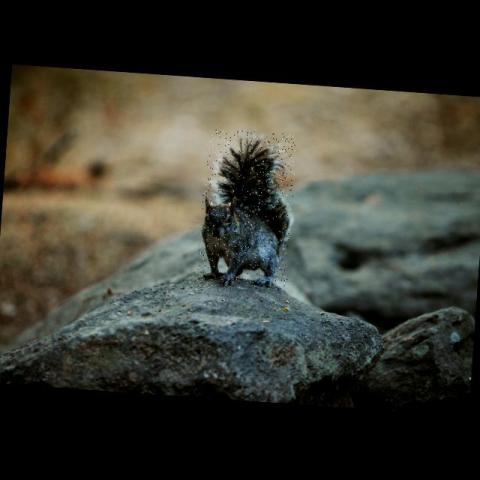small_animal: (200, 132, 292, 289)
